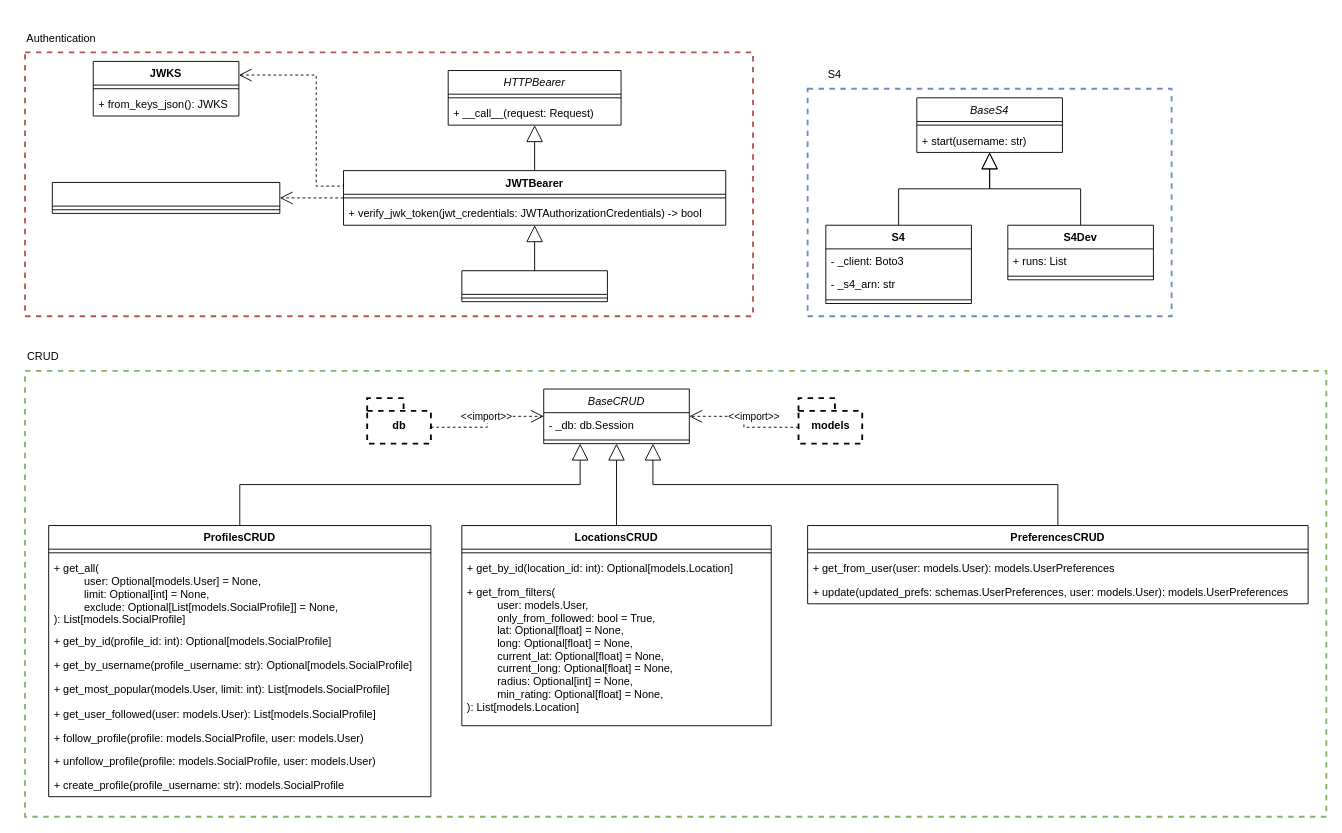
Some shapes in this 1342 by 833 pixel diagram are drawn without their labels. The centre of each missing label's shape, as x and y in pixels:
JWTAuthorizationCredentials: the point at 165,197
JWTBearerDev: the point at 534,286
